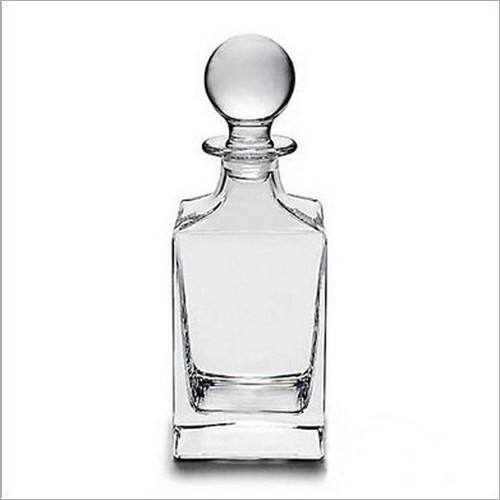glass_bottle: (167, 29, 336, 475)
